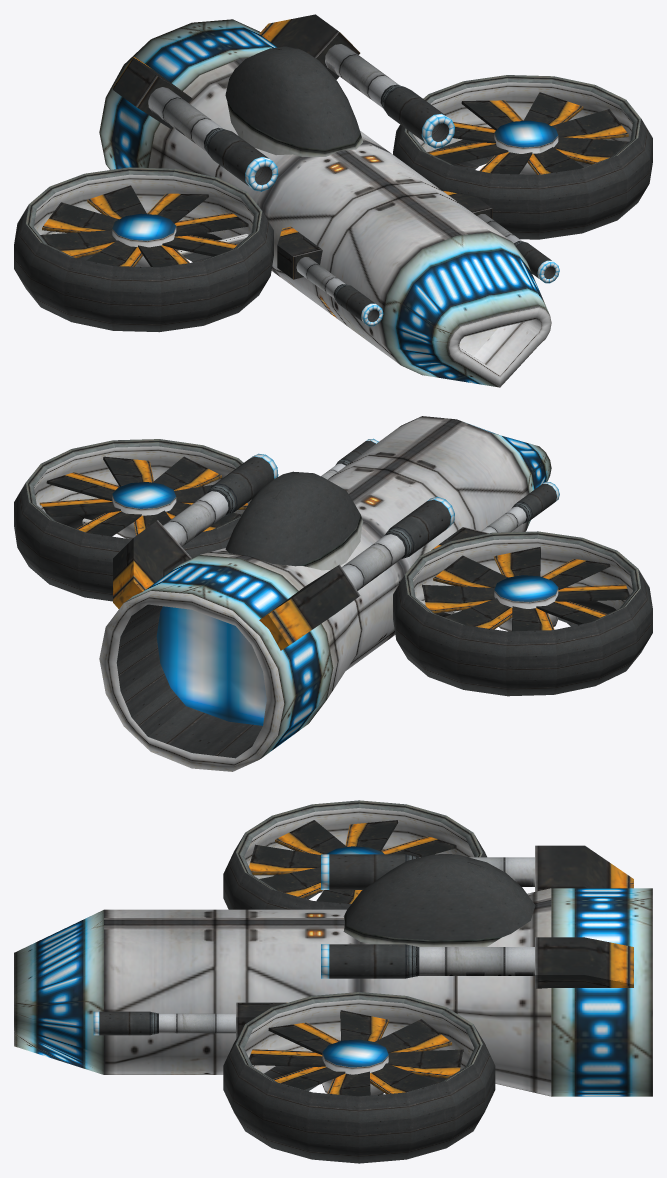
The model's file is naveanimada.fbx.
The picture shows the model from 3 angles, top to bottom: view 1: azimuth 30°, elevation 25°; view 2: azimuth 150°, elevation 25°; view 3: azimuth 270°, elevation 25°; orthographic projection. The views are drawn at different scales.
Visible parts, largest first — view 1: Cylinder, Cylinder.001, Cylinder.002; view 2: Cylinder, Cylinder.001, Cylinder.002; view 3: Cylinder, Cylinder.002, Cylinder.001.
Part boxes in pixels (<box>): Cylinder: <box>14,14,652,387</box>; Cylinder.001: <box>40,185,248,267</box>; Cylinder.002: <box>427,92,628,174</box>; Cylinder: <box>14,416,652,771</box>; Cylinder.001: <box>422,547,629,631</box>; Cylinder.002: <box>39,456,247,538</box>; Cylinder: <box>14,800,652,1163</box>; Cylinder.002: <box>249,1010,463,1096</box>; Cylinder.001: <box>249,820,456,903</box>.
Bounding box in the file's own units: 5.24 × 1.78 × 4.62.
